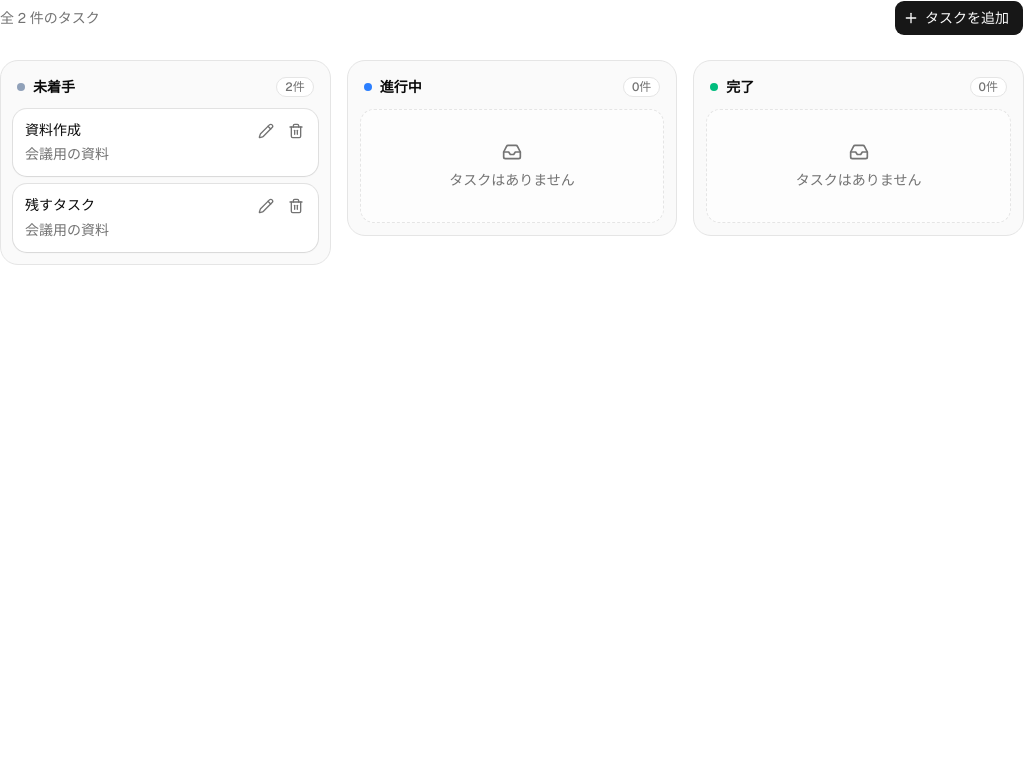
Test: KanbanBoard › 削除 › 確認ダイアログで削除すると、一覧からすぐに消える
Click the button named "「資料作成」を削除" at [296, 131], box [282,117,310,145]
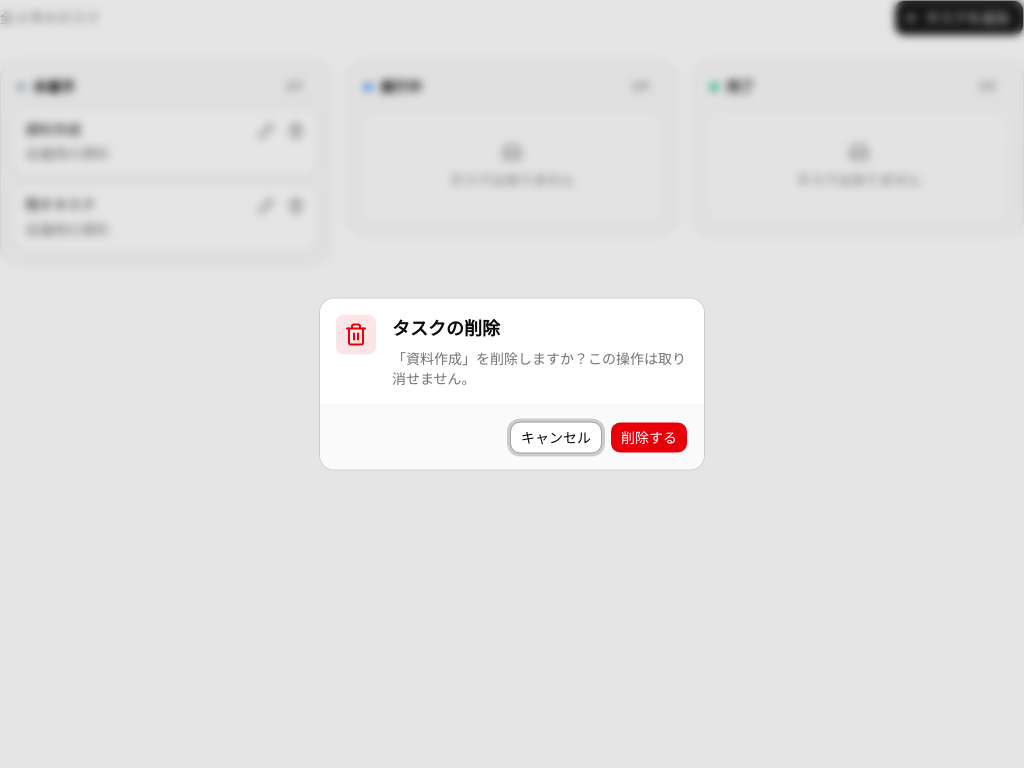
Click the button "削除する" at [649, 438], box [610,422,688,454]
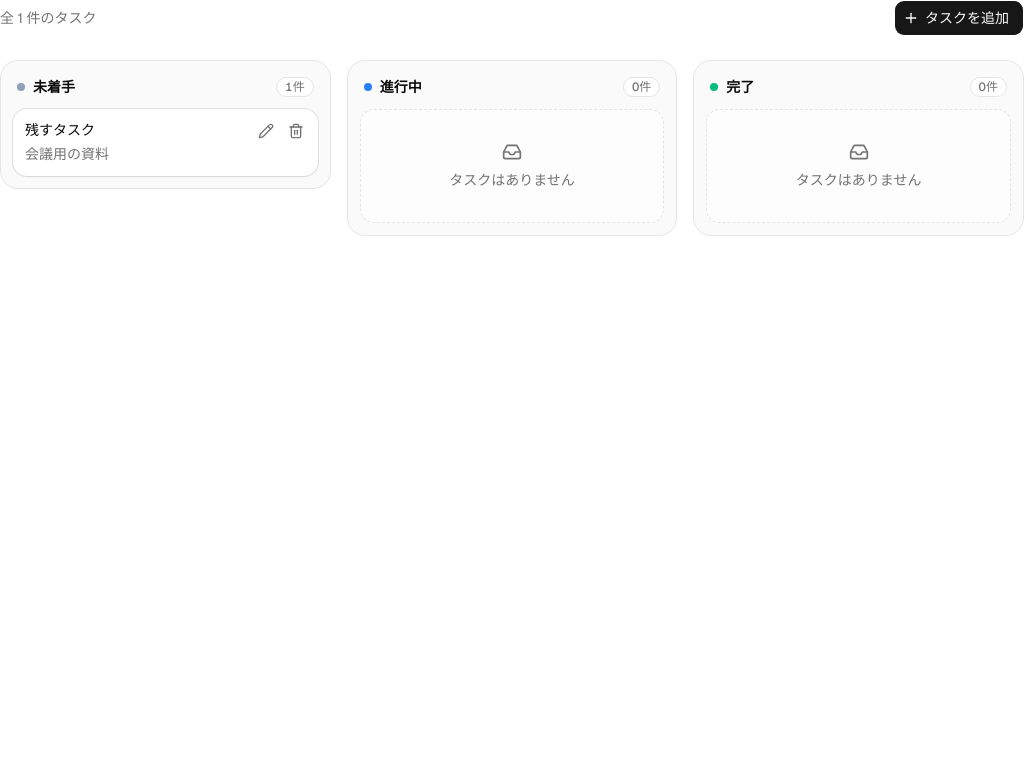
Expected: the dialog is gone
Expected: the heading "資料作成" is gone
Expected: the icon "1件" is shown, [276,77,314,97]
